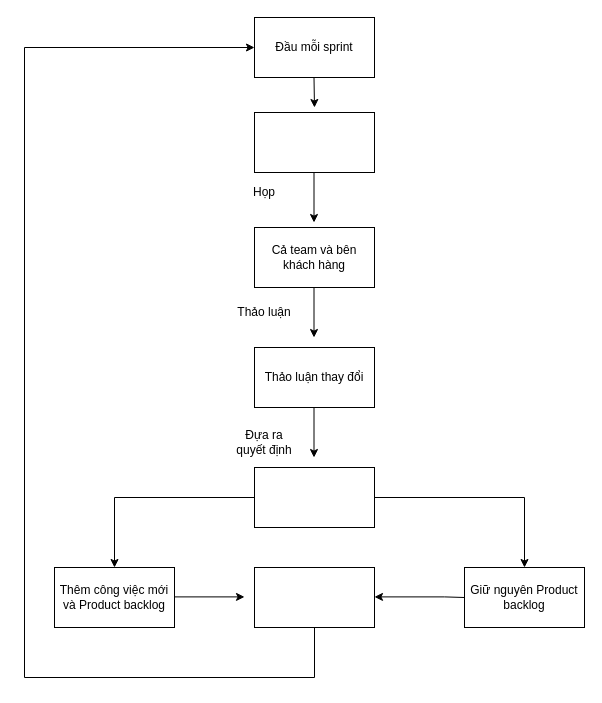
Some shapes in this 602 by 703 pixel diagram are drawn without their labels. The shapes that lost their labels are listed below. From the top down, each one's centre as x and y in pixels, then its label:
At [314,142]: "Yêu cầu thay đổi".
At [314,497]: "Quyết định có thêm vào Product backlog không".
At [314,597]: "Tiếp tục các bước khác trương sprint hiện tại".
